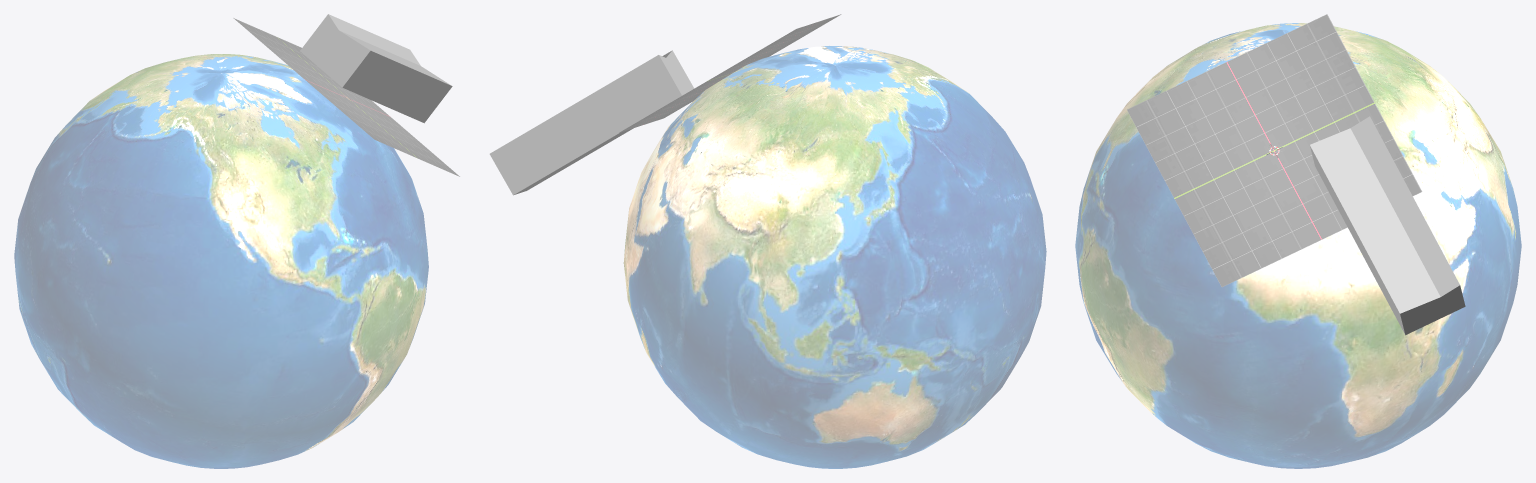
3 views of the same model, side by side, from view 1: azimuth 30°, elevation 25°; view 2: azimuth 150°, elevation 25°; view 3: azimuth 270°, elevation 25° (orthographic). The views are drawn at different scales.
Visible parts, largest first — view 1: Smooth sphere, Villa Le Sextant, Plane XY; view 2: Smooth sphere, Villa Le Sextant, Plane XY; view 3: Smooth sphere, Plane XY, Villa Le Sextant.
Boxes of the visible parts, x1,y1,x2,y2 form: Smooth sphere: (14,54,428,468); Villa Le Sextant: (300,14,452,123); Plane XY: (233,18,459,176); Smooth sphere: (623,46,1046,468); Villa Le Sextant: (489,50,694,195); Plane XY: (619,14,841,132); Smooth sphere: (1075,23,1521,468); Plane XY: (1127,14,1422,287); Villa Le Sextant: (1310,116,1465,335).
Size of the model in its own units: 2.55 by 2.21 by 2.
3 materials, 2 textured.
